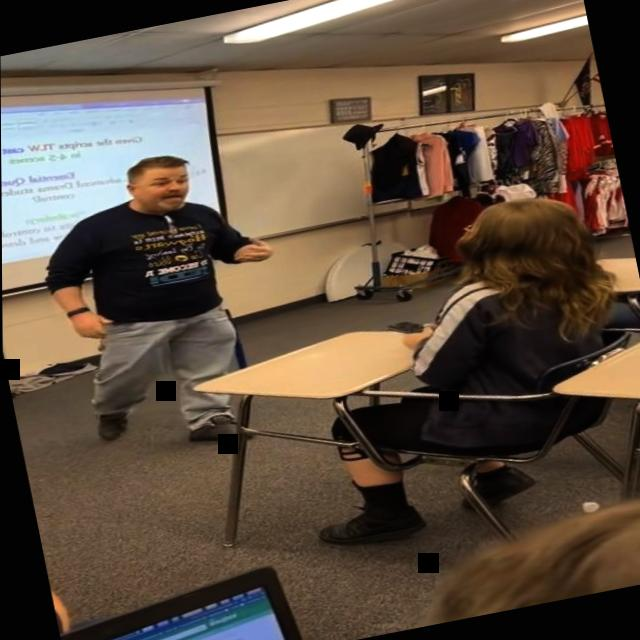NO-Mask: (123, 158, 194, 220)
